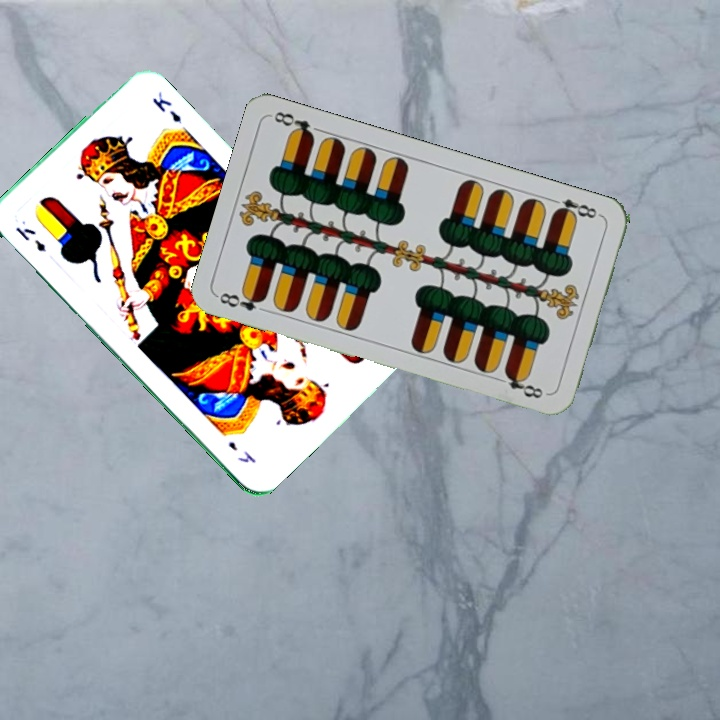E8: (546, 194, 604, 223), (214, 287, 268, 314)
EK: (11, 223, 48, 255)
